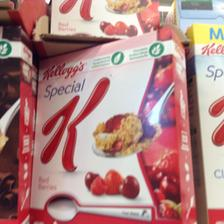Cerealien: (30, 24, 196, 219)
